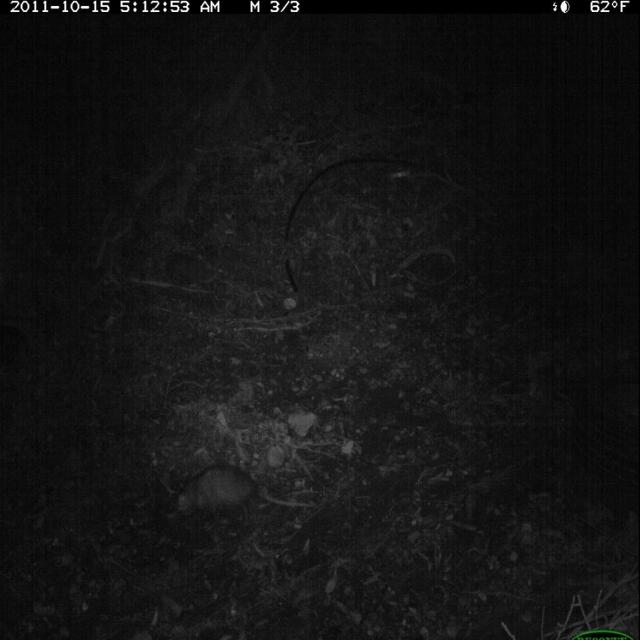opossum: (170, 461, 313, 531)
